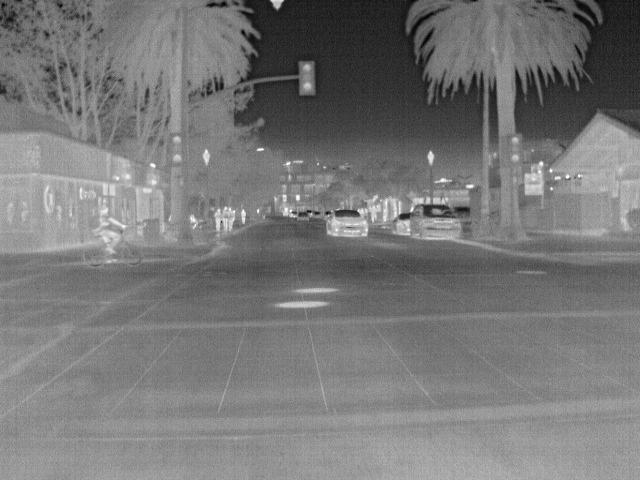car: (411, 204, 465, 245), (325, 208, 369, 236), (395, 213, 415, 237), (304, 210, 324, 231), (295, 210, 311, 222), (290, 209, 300, 220)
person: (94, 203, 126, 259), (220, 205, 232, 231), (212, 206, 224, 232), (227, 208, 240, 231), (187, 212, 199, 229), (369, 204, 379, 224), (239, 207, 248, 225)
